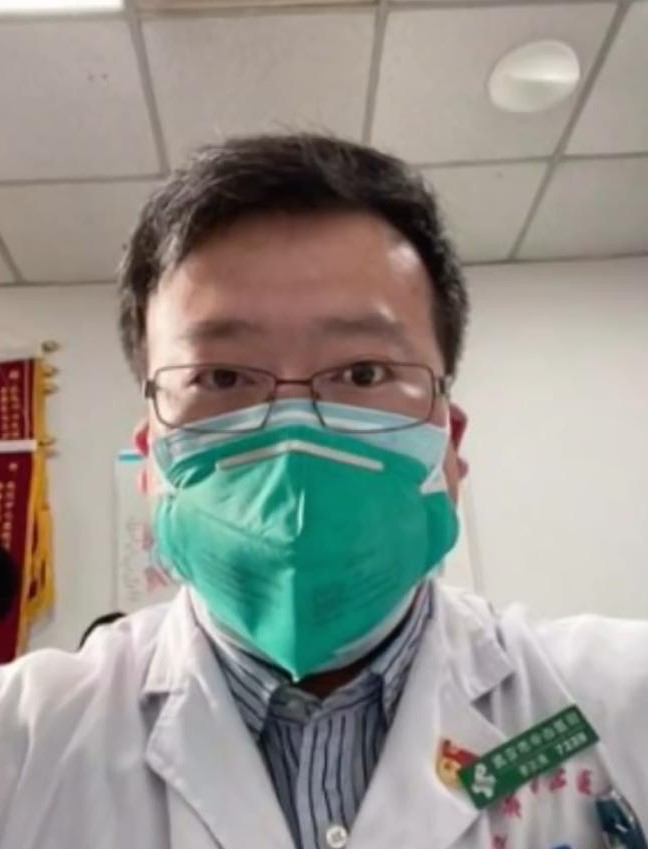with_mask: (193, 295, 412, 597)
